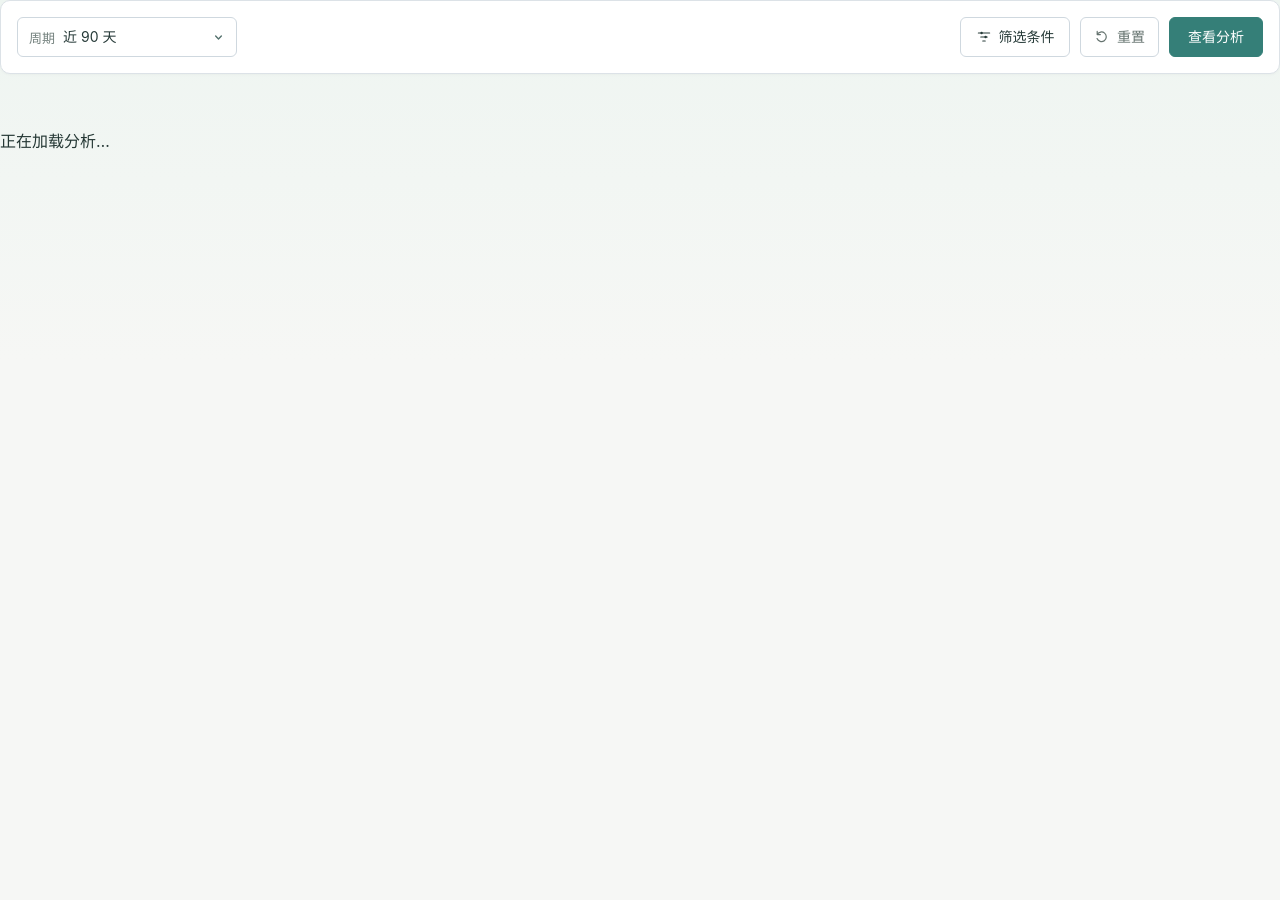
Test: shows date inputs only for a custom range and hides them after reset
expect the form named "分析范围" is shown: met, box [0, 0, 1279, 74]
expect the field labelled "开始日期" is not shown: met
Select "自定义范围" in the dropdown labelled "周期" at (144, 37), box [63, 18, 225, 56]
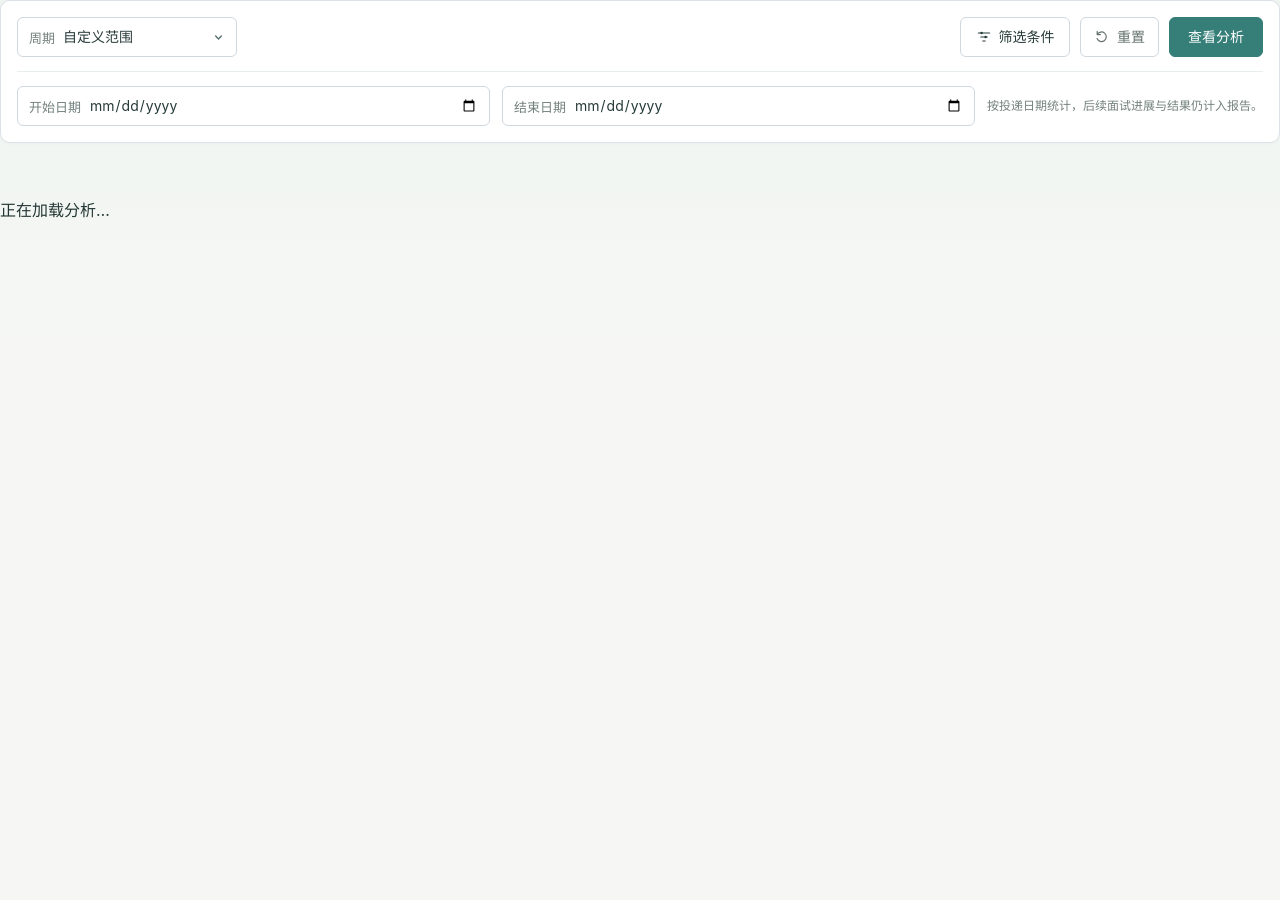
expect the date field labelled "开始日期" is enabled: met, box [89, 87, 478, 125]
expect the date field labelled "结束日期" is enabled: met, box [574, 87, 963, 125]
Click the button with aria-label "恢复默认" at (1120, 37), box [1080, 17, 1159, 57]
(page scrolled)
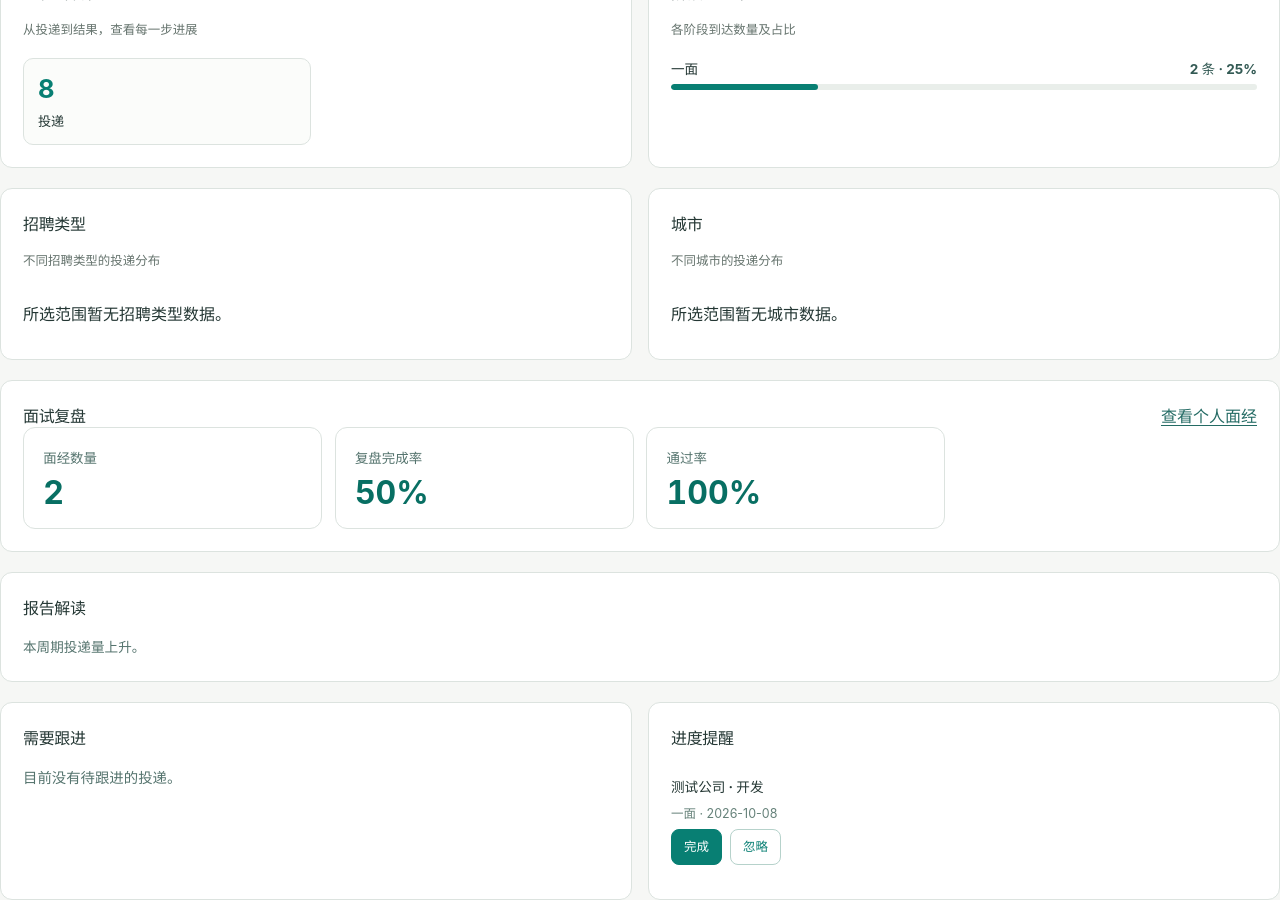
expect the text labelled "开始日期" is gone: met
expect the text "本周期投递量上升。" is shown: met, box [23, 639, 145, 655]
